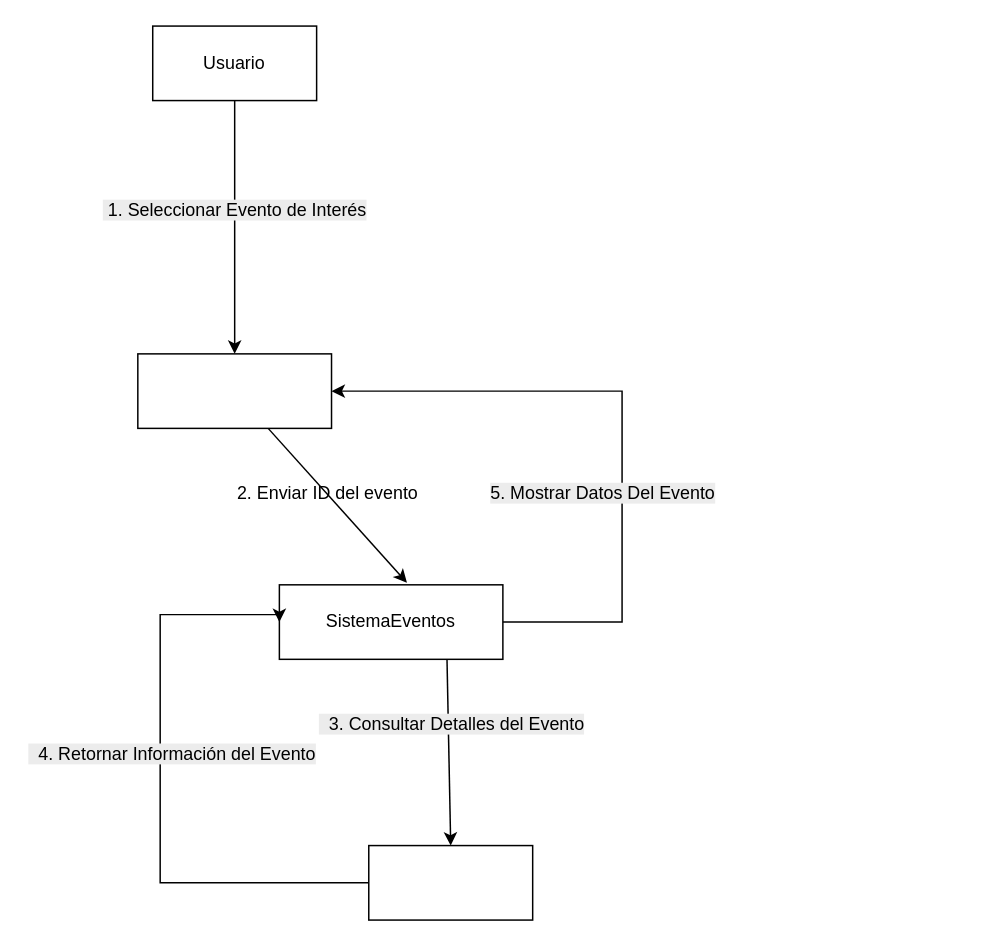
Image size: 988x946. Some labels were removed from this diagram. The shapes that lost their labels are listed below. From the top down, each one's centre as x and y in pixels, then its label:
the point at 234,390: :UI_Eventos
the point at 450,882: :BD_Eventos
